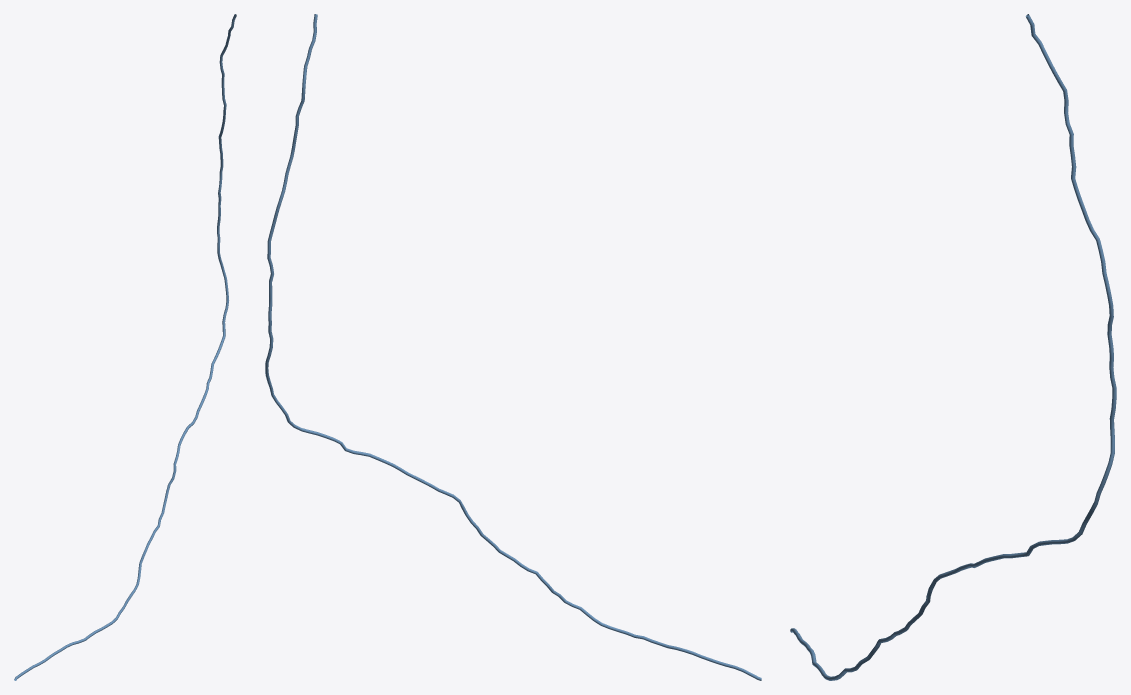
Rendered from sweep138.fbx.
The picture shows the model from 3 angles, left to right: view 1: azimuth 30°, elevation 25°; view 2: azimuth 150°, elevation 25°; view 3: azimuth 270°, elevation 25°; orthographic projection. The views are drawn at different scales.
Parts seen in each view (by area): view 1: sweep138; view 2: sweep138; view 3: sweep138.
Part boxes in pixels (left/top/right/bottom): sweep138: left=14, top=14, right=236, bottom=680; sweep138: left=265, top=14, right=761, bottom=680; sweep138: left=790, top=14, right=1116, bottom=680.
Size of the model in its own units: 2.55 by 4.2 by 1.47.
